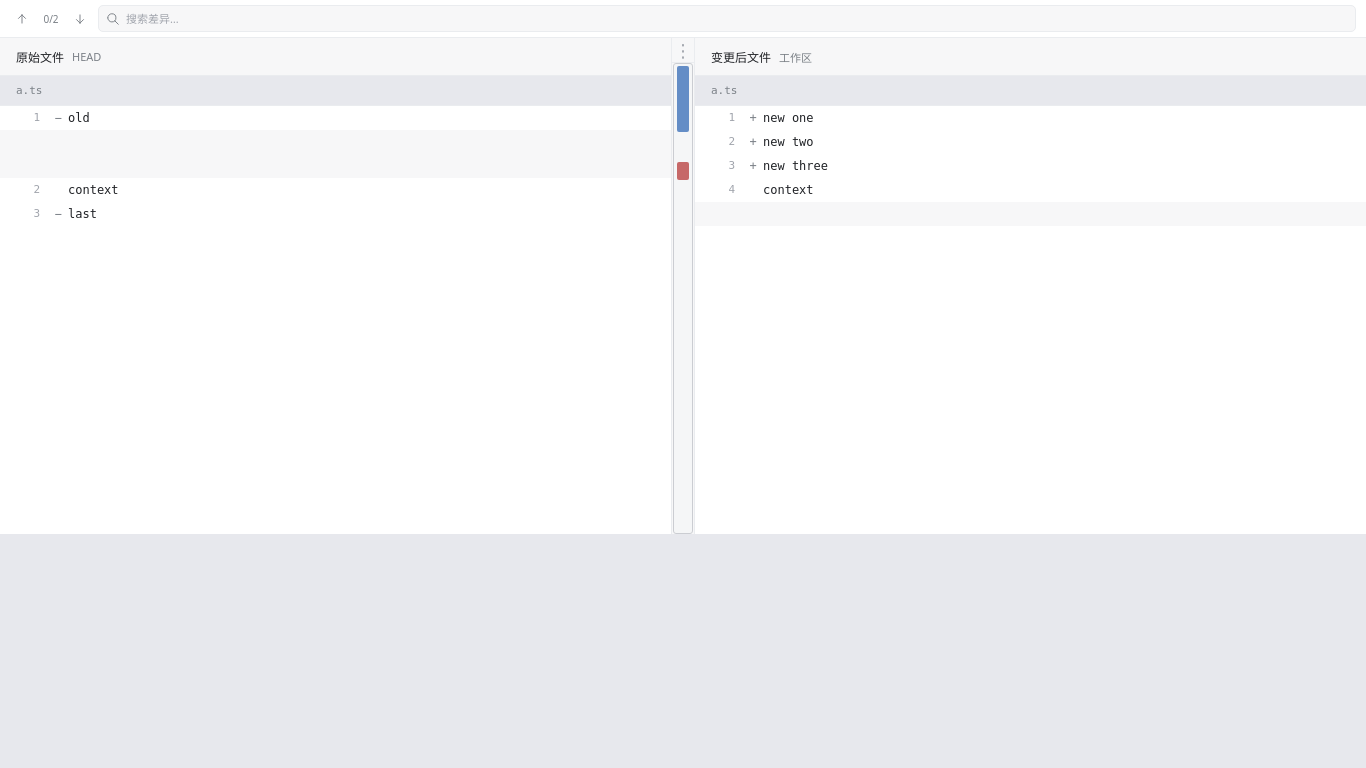
Test case: 差异导航与搜索 › 左右比对的标记覆盖多行替换及对齐空行，并正确切换到单行变更
The width and height of the screenshot is (1366, 768).
Click the button named "下一个变更" at {"x": 80, "y": 18}, box [68,6,92,31]
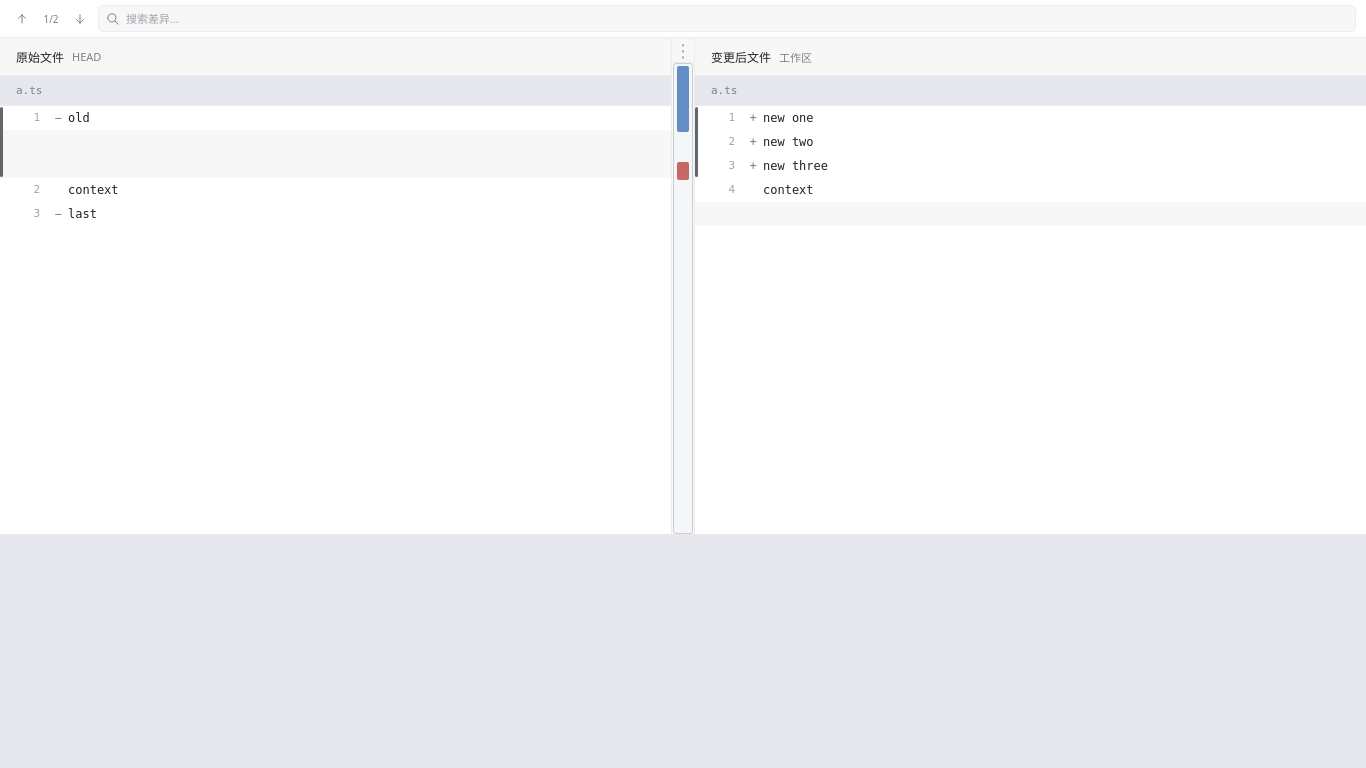
Click the button named "下一个变更" at {"x": 80, "y": 18}, box [68,6,92,31]
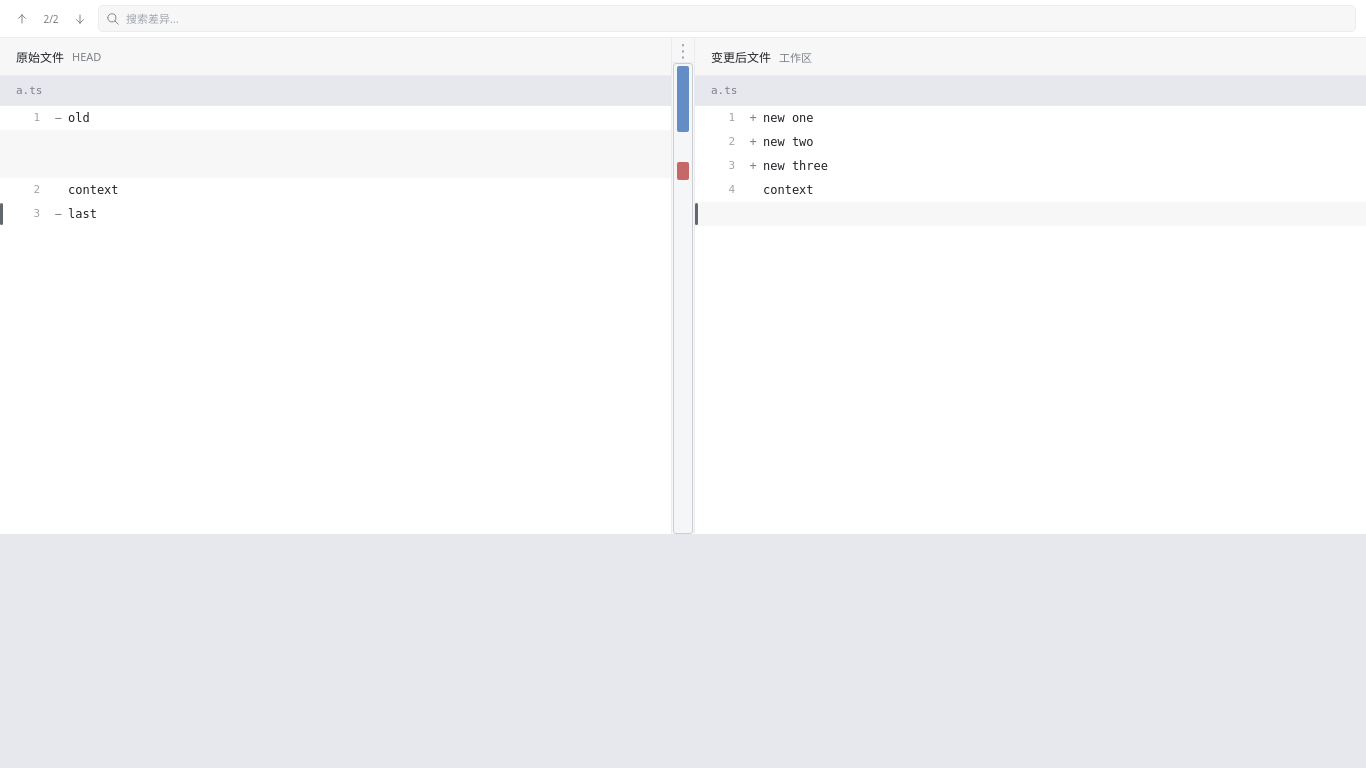
Expected: the element with class "diff-change-current" showing "3 − last" is shown, [33,207,97,221]
Now the 2nd element with class "diff-change-current" is shown, box [695,202,1365,226]
